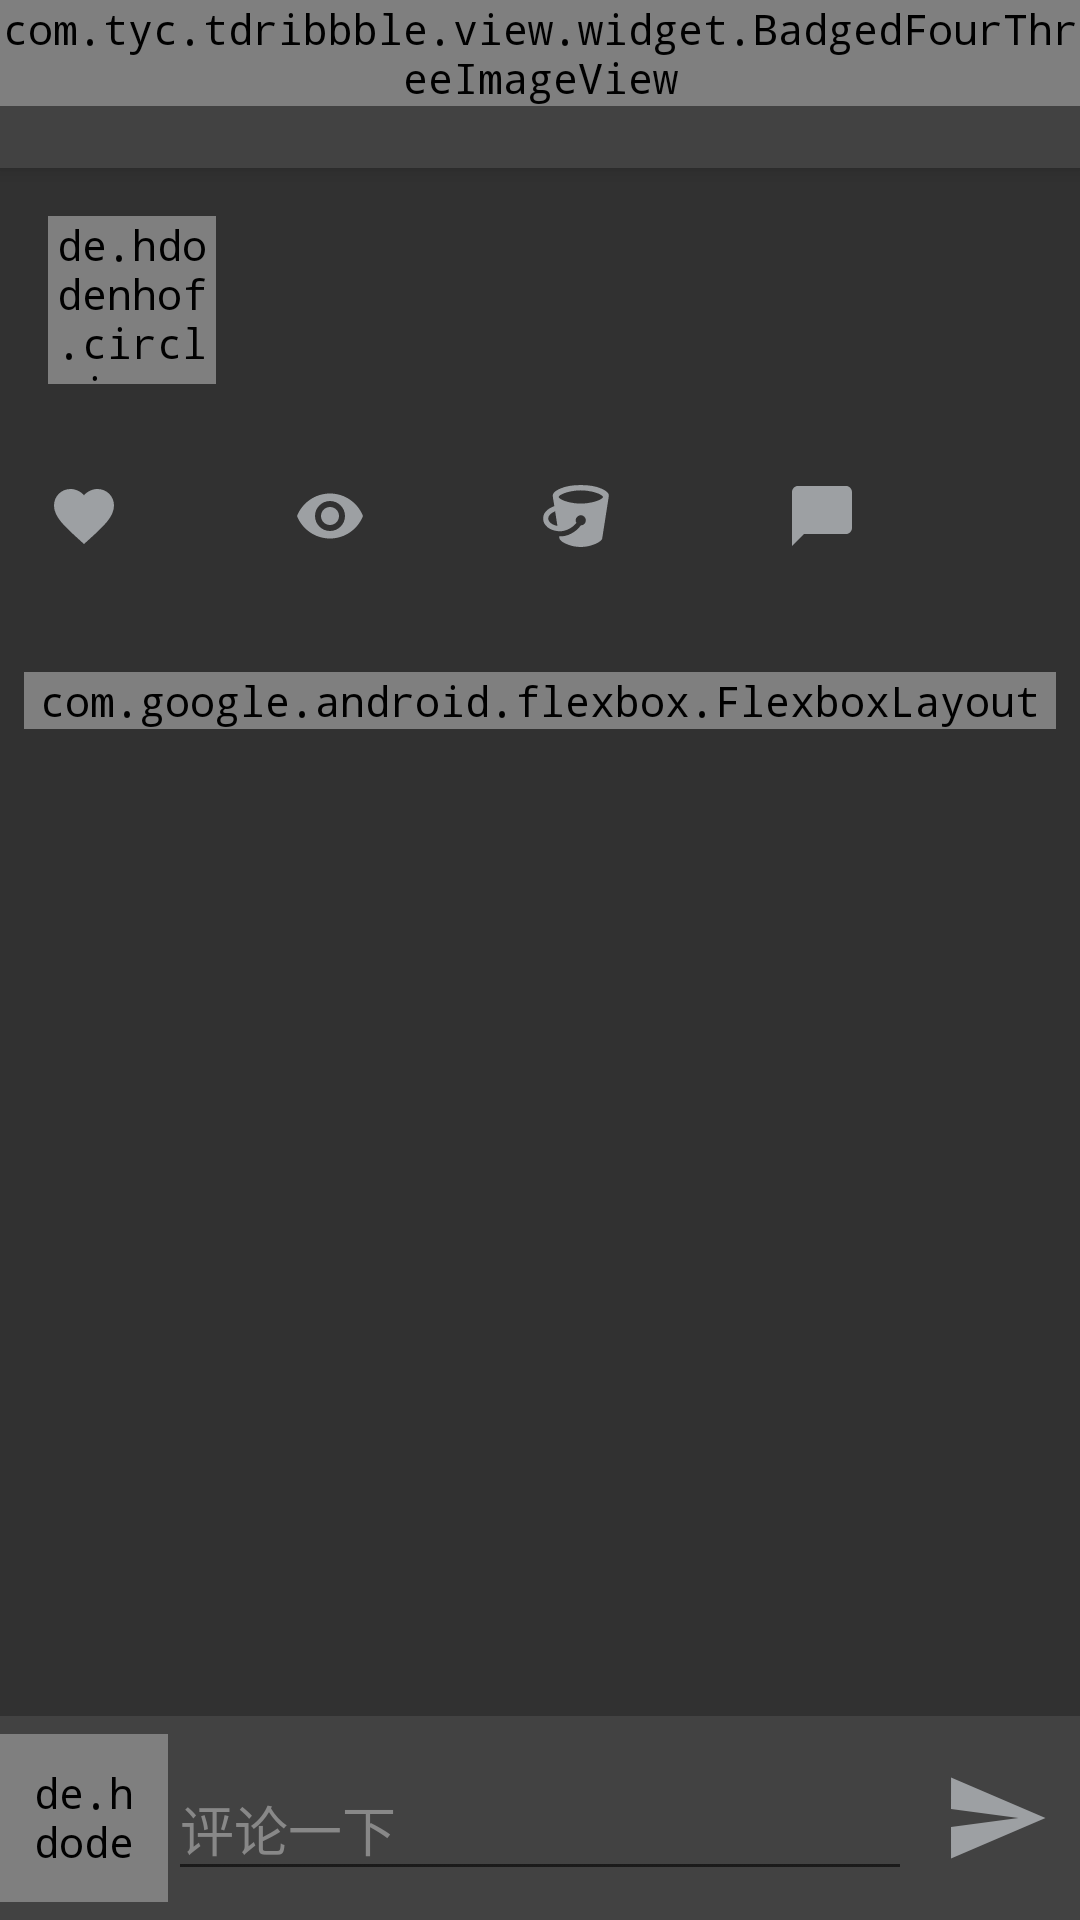

Named icons in this screenshot (1080px×1920px) and their bounding boxes, detection(x1, y1, x2, y2):
send: detection(951, 1777, 1045, 1859)
